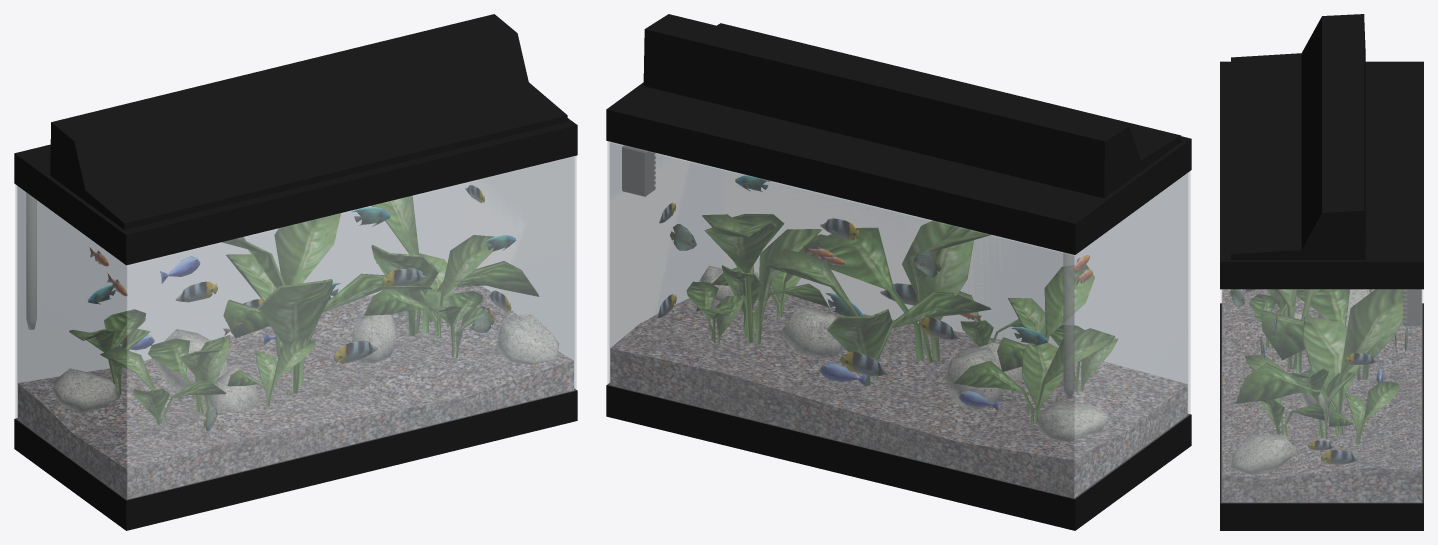
File: sweethome3d-scopia-aquarium-190.glb
3 renders of one model, left to right at view 1: azimuth 30°, elevation 25°; view 2: azimuth 150°, elevation 25°; view 3: azimuth 270°, elevation 25°, orthographic. The views are drawn at different scales.
Parts seen in each view (by area): view 1: aquarium-glass_Cube, aquarium-glass.002_Cube.009, aquarium-top_Cube.002, aquarium-glass.001_Cube.003, aquarium-base_Cube.001, Plane.032, Plane.033, Plane.031, Plane, Plane.005, Cube.002_Cube.006, Cube.003_Cube.007 (+9 smaller); view 2: aquarium-glass_Cube, aquarium-glass.002_Cube.009, aquarium-top_Cube.002, aquarium-glass.001_Cube.003, aquarium-base_Cube.001, Plane.032, Plane.033, Plane.031, Plane.006, Plane.005, Cube.003_Cube.007, Cube_Cube.004 (+9 smaller); view 3: aquarium-top_Cube.002, aquarium-glass_Cube, aquarium-glass.002_Cube.009, aquarium-glass.001_Cube.003, Plane.031, aquarium-base_Cube.001, Plane.032, Cube.002_Cube.006, Plane.033, Plane.002, Plane, Plane.001 (+6 smaller).
Part boxes in pixels (box(x1,y1,x2,y2)): aquarium-glass_Cube: box(15, 156, 576, 499); aquarium-glass.002_Cube.009: box(17, 156, 574, 498); aquarium-top_Cube.002: box(14, 14, 577, 265); aquarium-glass.001_Cube.003: box(18, 286, 573, 498); aquarium-base_Cube.001: box(14, 388, 577, 530); Plane.032: box(222, 237, 431, 393); Plane.033: box(223, 213, 340, 356); Plane.031: box(371, 196, 538, 335); Plane: box(364, 235, 493, 338); Plane.005: box(148, 335, 229, 413); Cube.002_Cube.006: box(497, 314, 558, 364); Cube.003_Cube.007: box(52, 368, 119, 413); aquarium-glass_Cube: box(607, 141, 1190, 498); aquarium-glass.002_Cube.009: box(610, 142, 1187, 497); aquarium-top_Cube.002: box(606, 14, 1191, 254); aquarium-glass.001_Cube.003: box(610, 287, 1187, 497); aquarium-base_Cube.001: box(606, 383, 1191, 530); Plane.032: box(803, 220, 990, 362); Plane.033: box(764, 249, 990, 385); Plane.031: box(705, 214, 821, 343); Plane.006: box(954, 328, 1114, 424); Plane.005: box(997, 264, 1094, 371); Cube.003_Cube.007: box(1037, 400, 1108, 441); Cube_Cube.004: box(781, 306, 842, 355); aquarium-top_Cube.002: box(1220, 14, 1423, 289); aquarium-glass_Cube: box(1221, 289, 1422, 502); aquarium-glass.002_Cube.009: box(1222, 289, 1421, 502); aquarium-glass.001_Cube.003: box(1222, 289, 1421, 502); Plane.031: box(1235, 289, 1402, 435); aquarium-base_Cube.001: box(1220, 303, 1423, 530); Plane.032: box(1260, 289, 1319, 372); Cube.002_Cube.006: box(1230, 435, 1297, 474); Plane.033: box(1296, 289, 1402, 380); Plane.002: box(1329, 381, 1399, 444); Plane: box(1289, 368, 1355, 438); Plane.001: box(1245, 355, 1324, 435).
Size of the model in its own units: 70.21 by 52.01 by 30.18.
